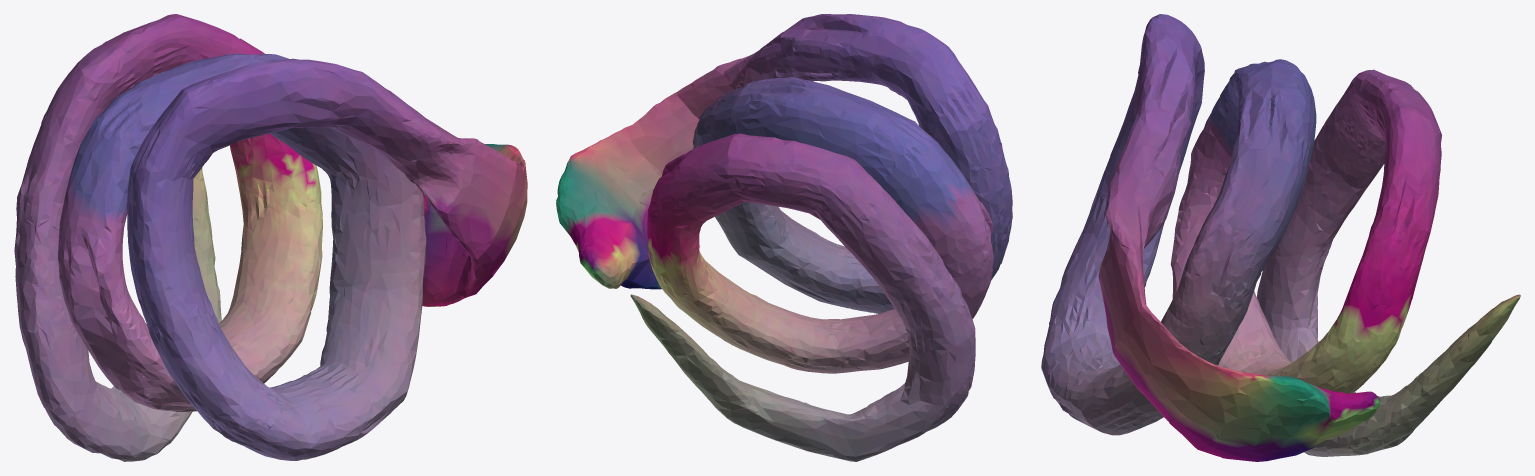
The model's file is snake-11.off.obj.
The picture shows the model from 3 angles, left to right: view 1: azimuth 30°, elevation 25°; view 2: azimuth 150°, elevation 25°; view 3: azimuth 270°, elevation 25°; orthographic projection. The views are drawn at different scales.
Size of the model in its own units: 1.5 by 1.32 by 1.32.
